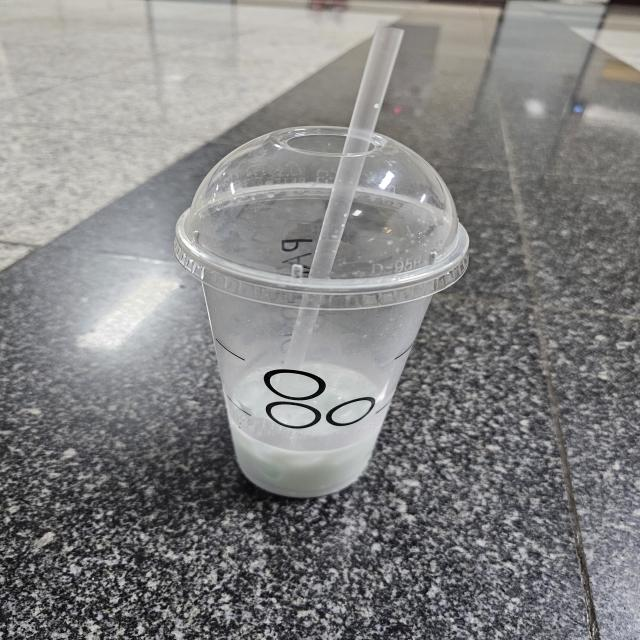cup: (166, 117, 478, 503)
